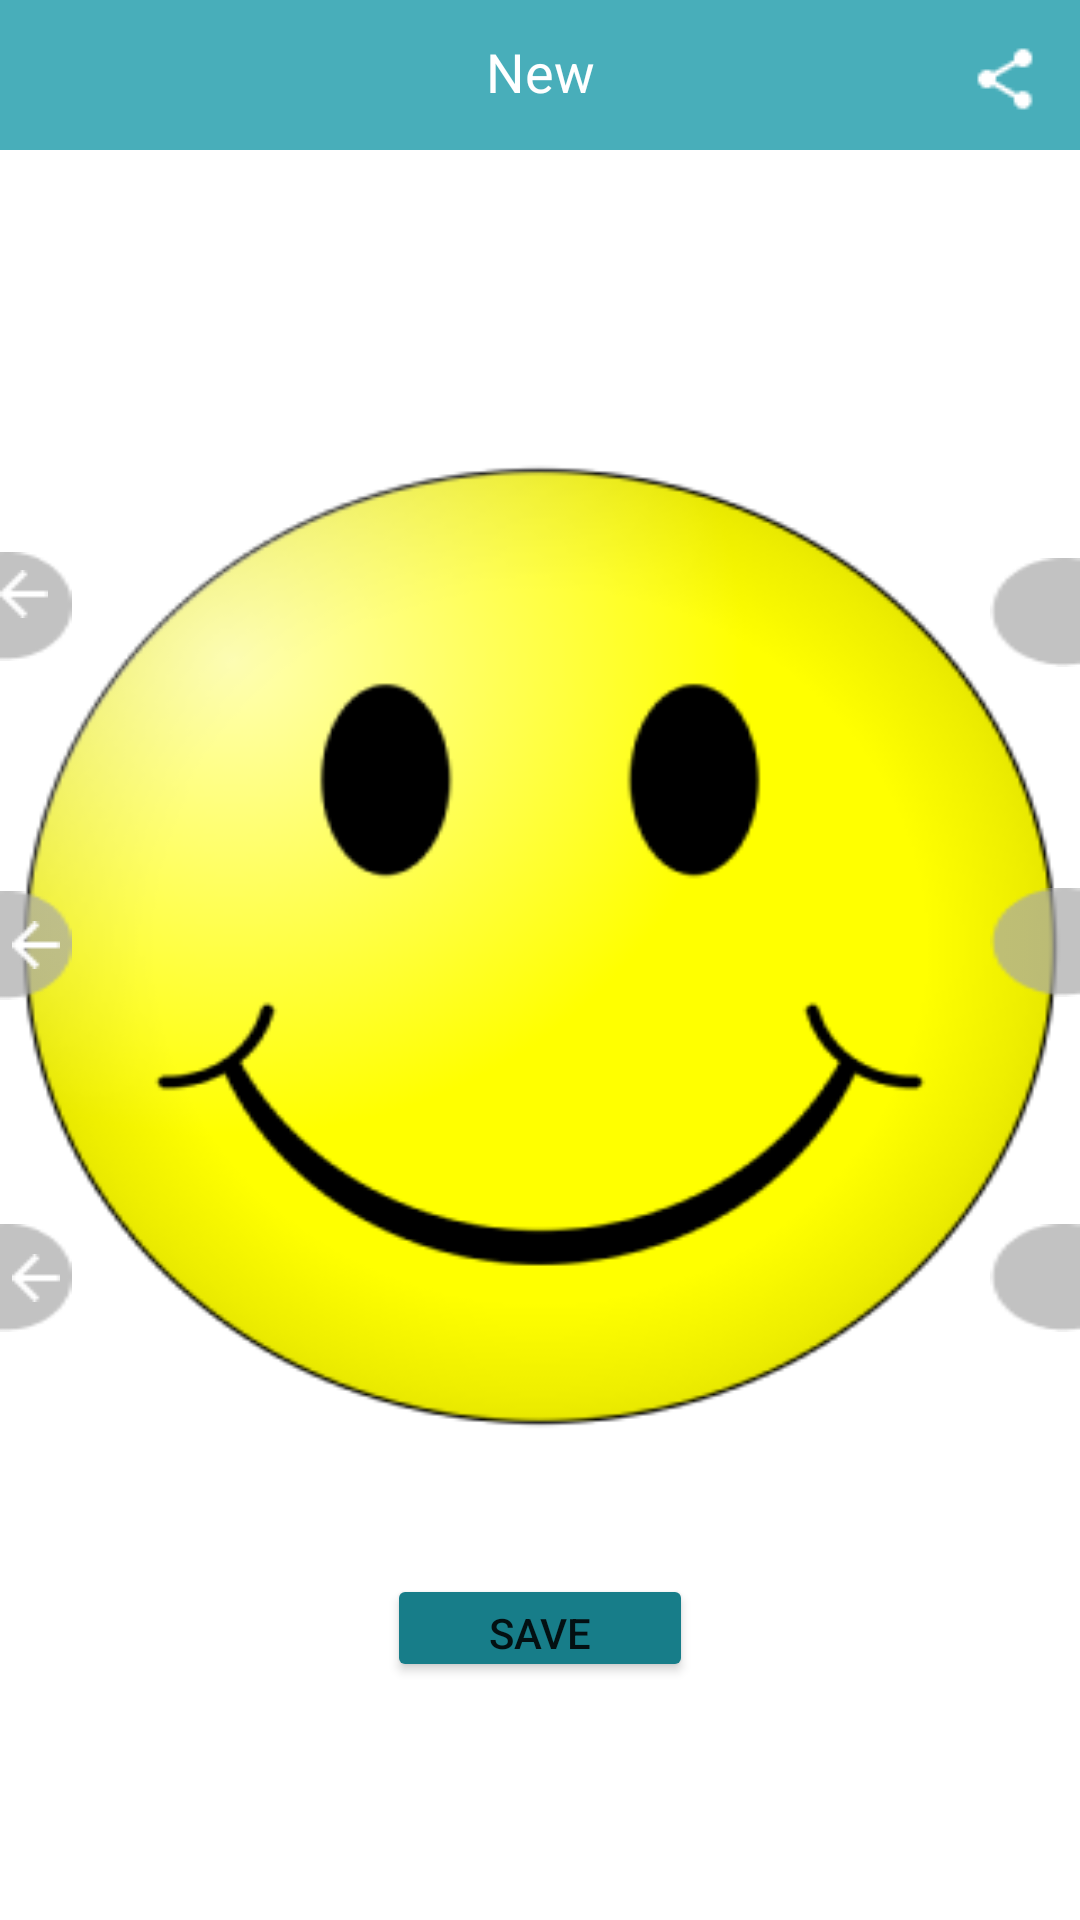

Screen size 1080*1920. Icon name, then its box in pixels as (x1, y1, x2, y2):
share: (977, 48, 1033, 110)
